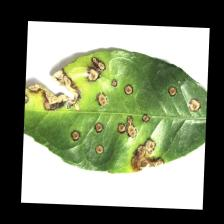canker: (30, 57, 182, 170)
